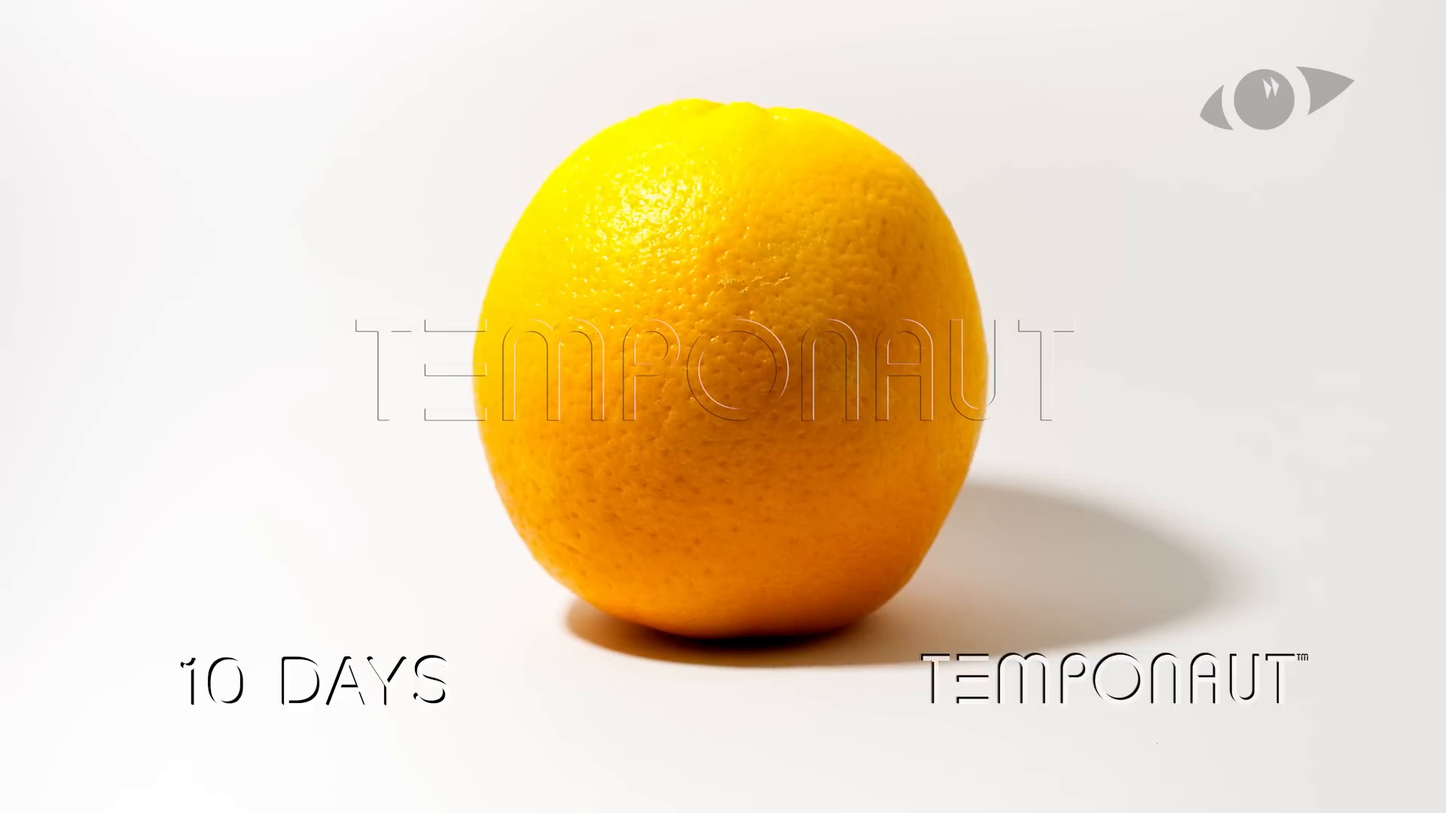orange_fresh: (470, 95, 991, 643)
